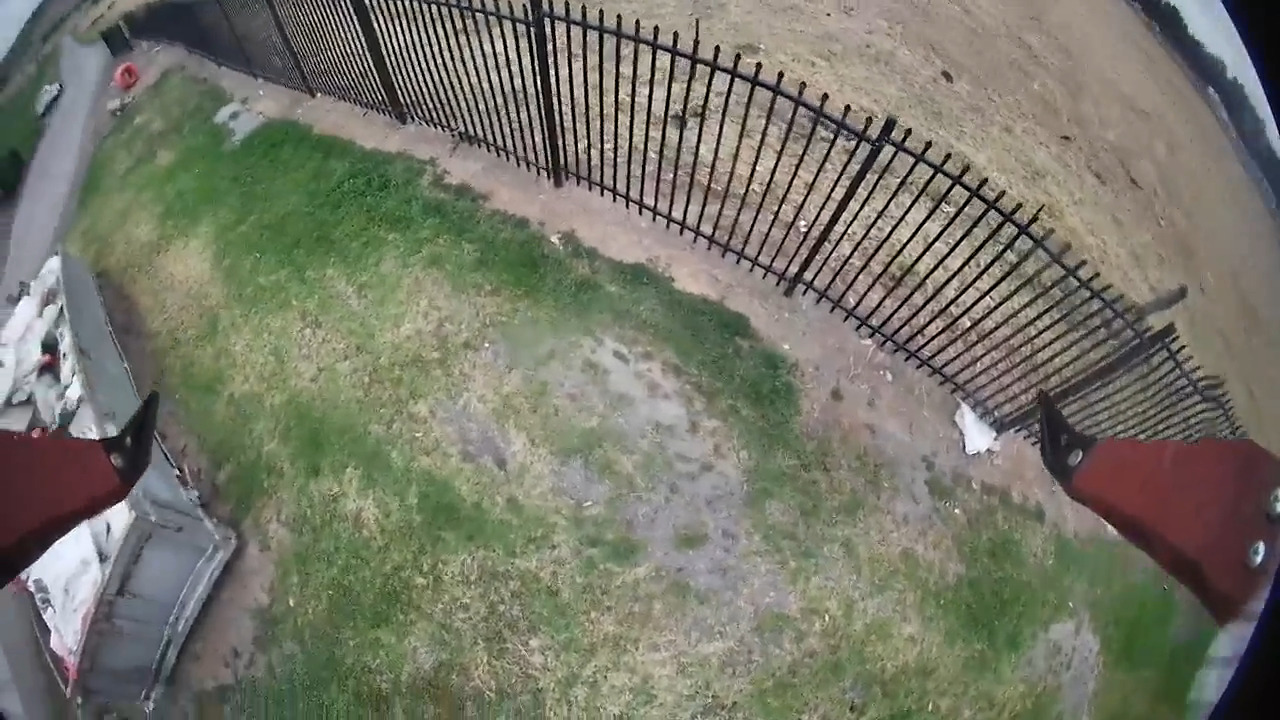Car: (34, 81, 62, 118)
